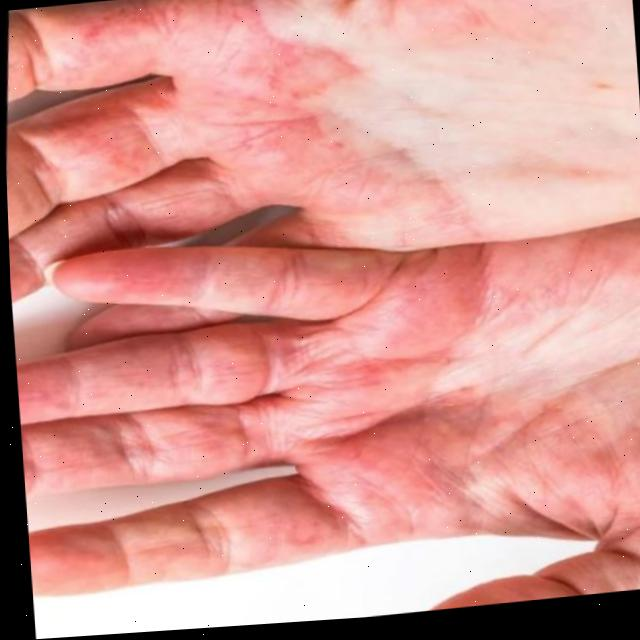Eczema: (0, 0, 617, 640)
